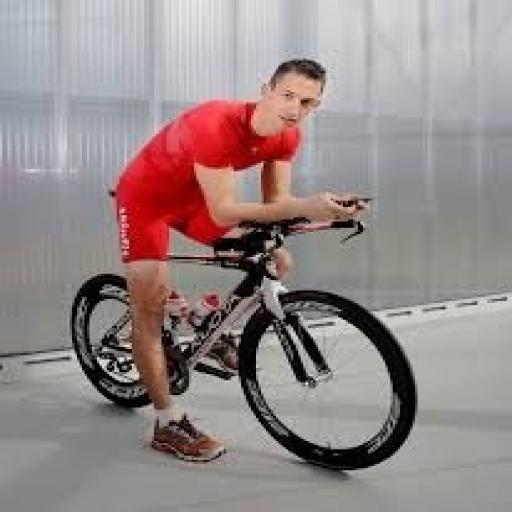cycling: (107, 54, 378, 466)
